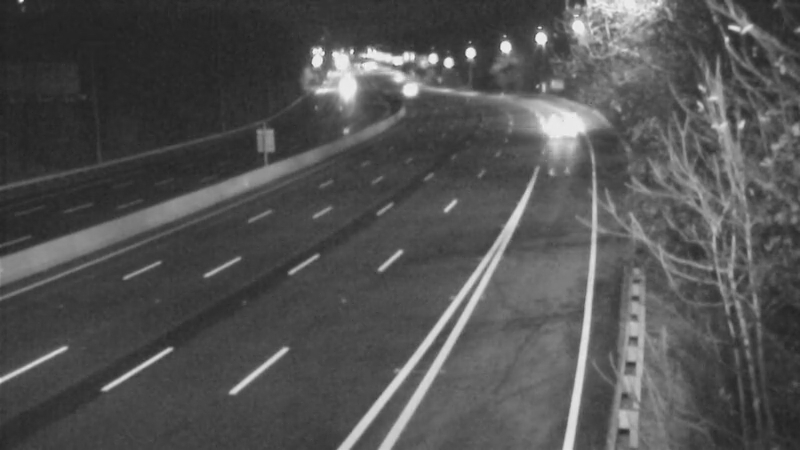vehicle: (375, 54, 425, 104), (381, 63, 431, 113), (530, 94, 580, 144), (321, 61, 371, 111)
